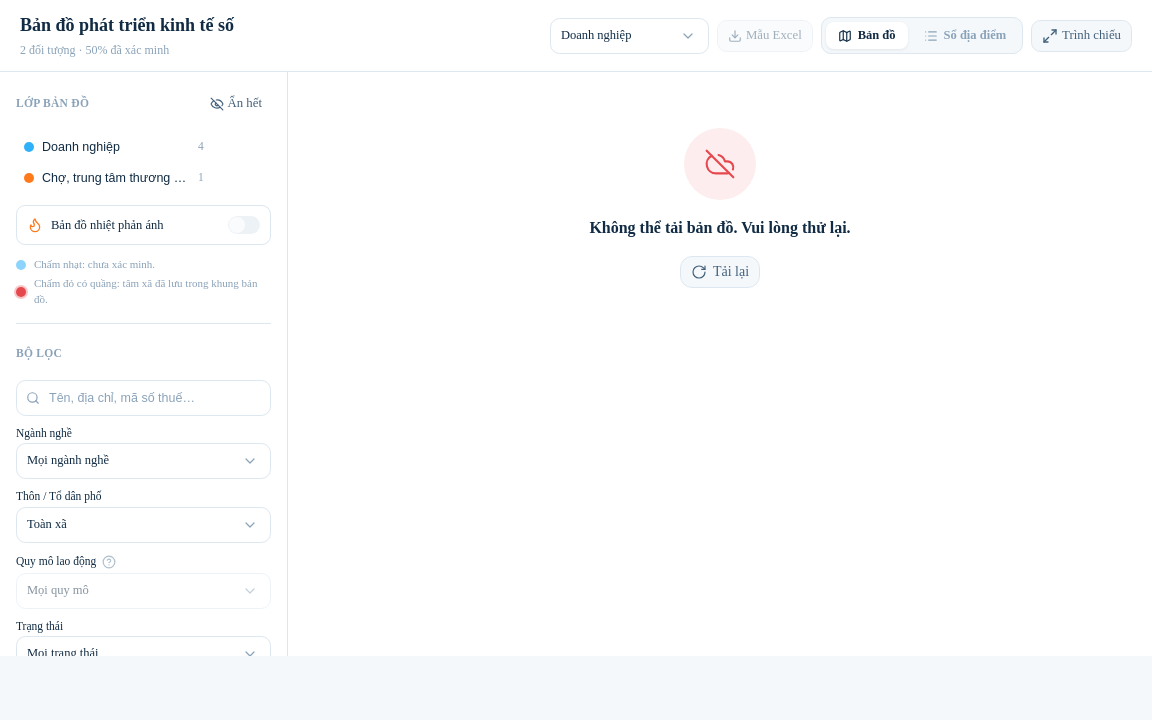
Test: Sổ địa điểm › the whole group row is clickable (bg-canvas, 12px bold navy), and the count stays muted
Click the button "Sổ địa điểm" at [965, 36], box [912,22,1018,49]
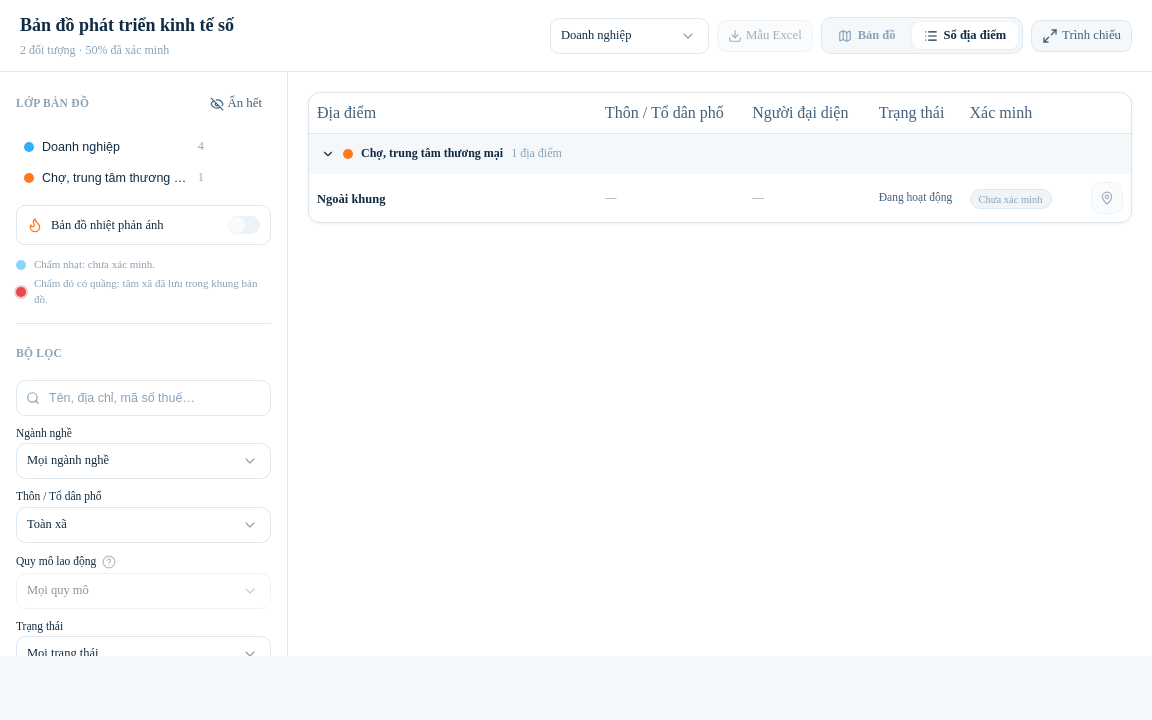
Check: the button "Chợ, trung tâm thương mại 1 địa điểm" is shown
Click the column heading "Chợ, trung tâm thương mại 1 địa điểm" at [720, 153], box [309,133,1131,174]
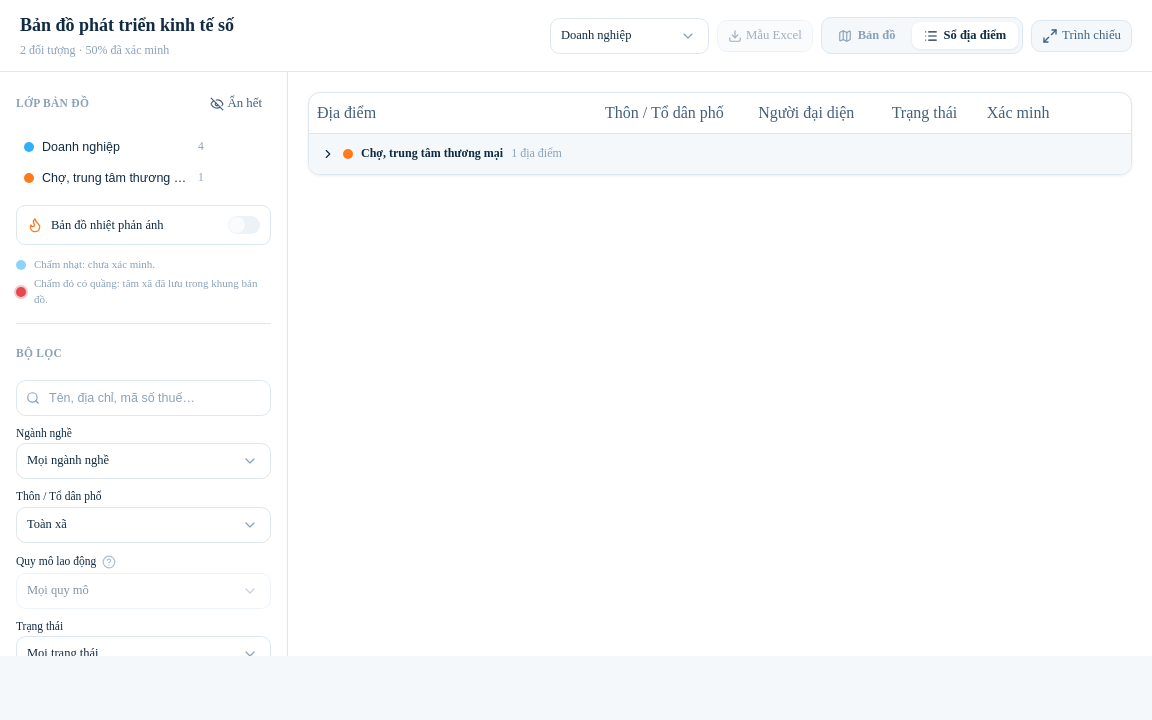
Check: the button "Chợ, trung tâm thương mại 1 địa điểm" is collapsed, box [309,134,1131,174]
